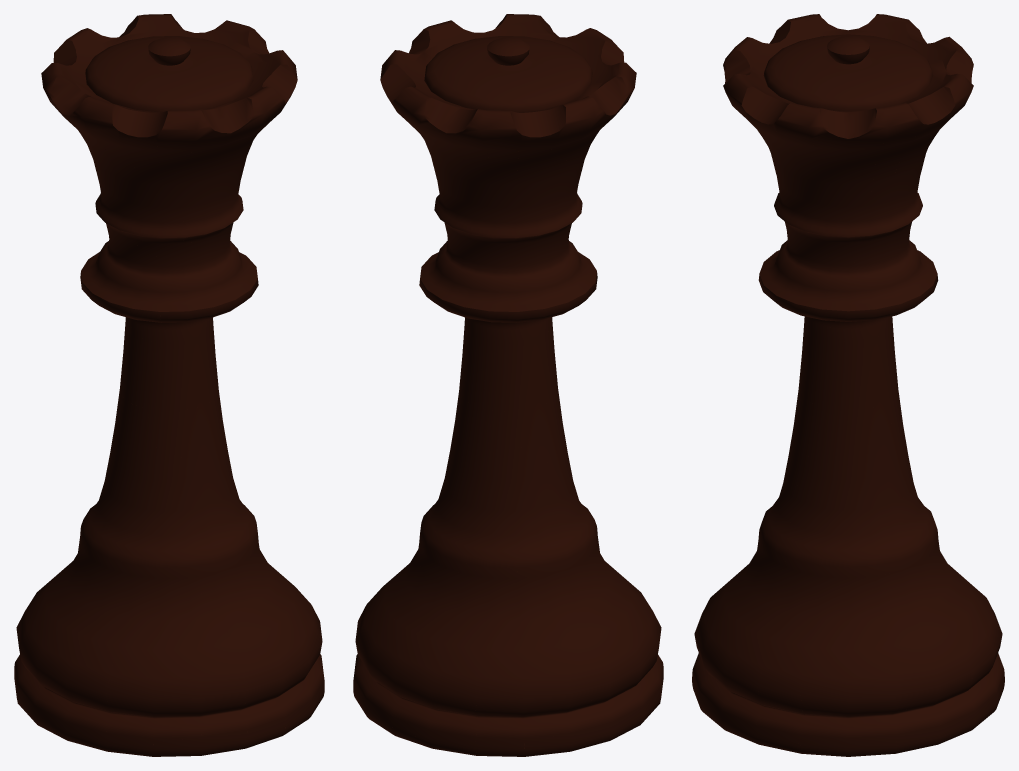
The picture shows the model from 3 angles, left to right: view 1: azimuth 30°, elevation 25°; view 2: azimuth 150°, elevation 25°; view 3: azimuth 270°, elevation 25°; orthographic projection.
Parts seen in each view (by area): view 1: REGINA01; view 2: REGINA01; view 3: REGINA01.
Part boxes in pixels (left/top/right/bottom): REGINA01: left=14, top=14, right=324, bottom=756; REGINA01: left=353, top=14, right=663, bottom=756; REGINA01: left=692, top=14, right=1004, bottom=756.
Bounding box in the file's own units: 186 × 429 × 186.
